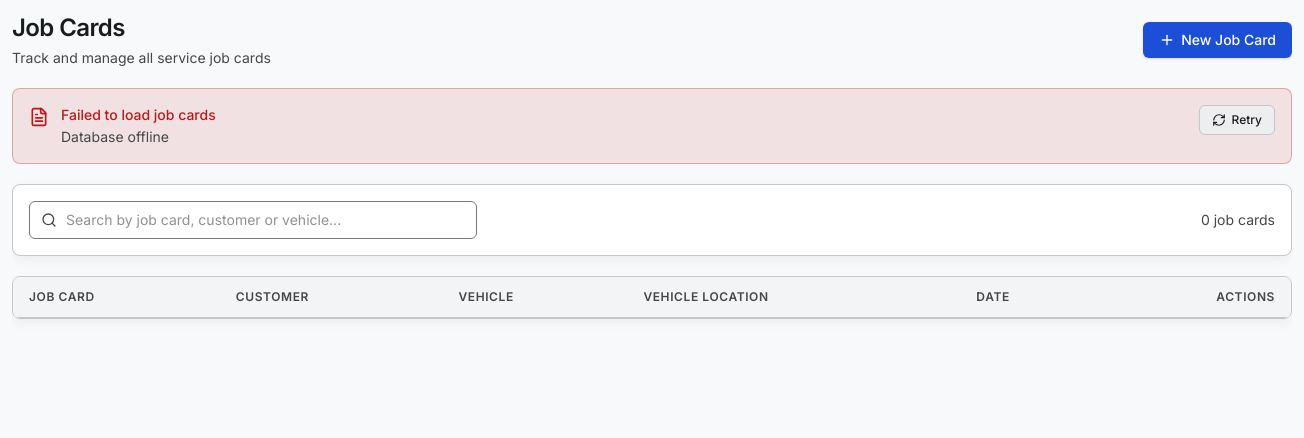
JobCardsPage Component › displays error banner and handles retry correctly
expect the text "Failed to load job cards" is shown: met, box 61,106 -> 216,123
expect the text "Database offline" is shown: met, box 61,128 -> 169,145
Click the button "Retry" at (1237,120), box 1198,105 -> 1275,135
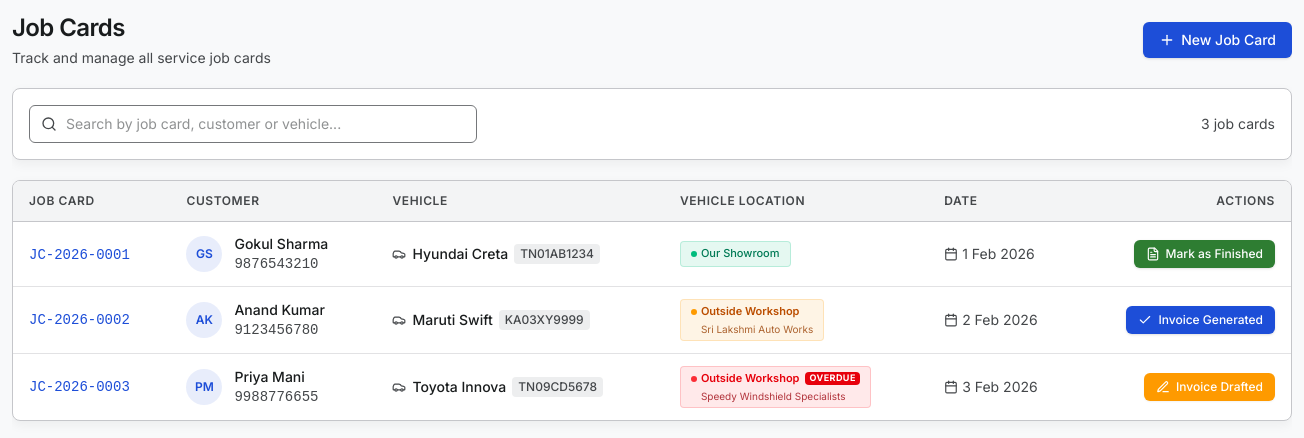
expect the link "JC-2026-0001" is shown: met, box 29,246 -> 130,262
